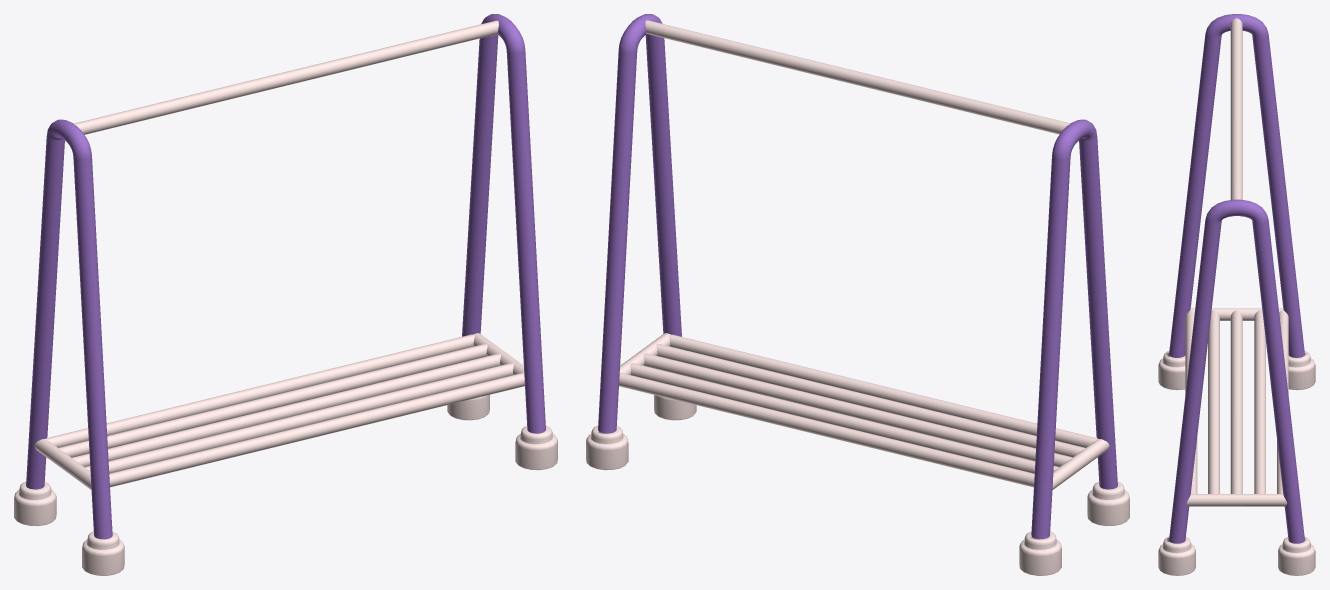
File: Public_13_Floor_hanger_1.glb
The picture shows the model from 3 angles, left to right: view 1: azimuth 30°, elevation 25°; view 2: azimuth 150°, elevation 25°; view 3: azimuth 270°, elevation 25°; orthographic projection. The views are drawn at different scales.
Visible parts, largest first — view 1: Public_13_Floor_hanger_1; view 2: Public_13_Floor_hanger_1; view 3: Public_13_Floor_hanger_1.
Part boxes in pixels (x1,y1,x2,y2): Public_13_Floor_hanger_1: (14,14,557,575); Public_13_Floor_hanger_1: (586,14,1129,575); Public_13_Floor_hanger_1: (1158,14,1315,575).
Size of the model in its own units: 2.52 by 2.14 by 0.8299.
Materials: 1 (1 with a texture image).
